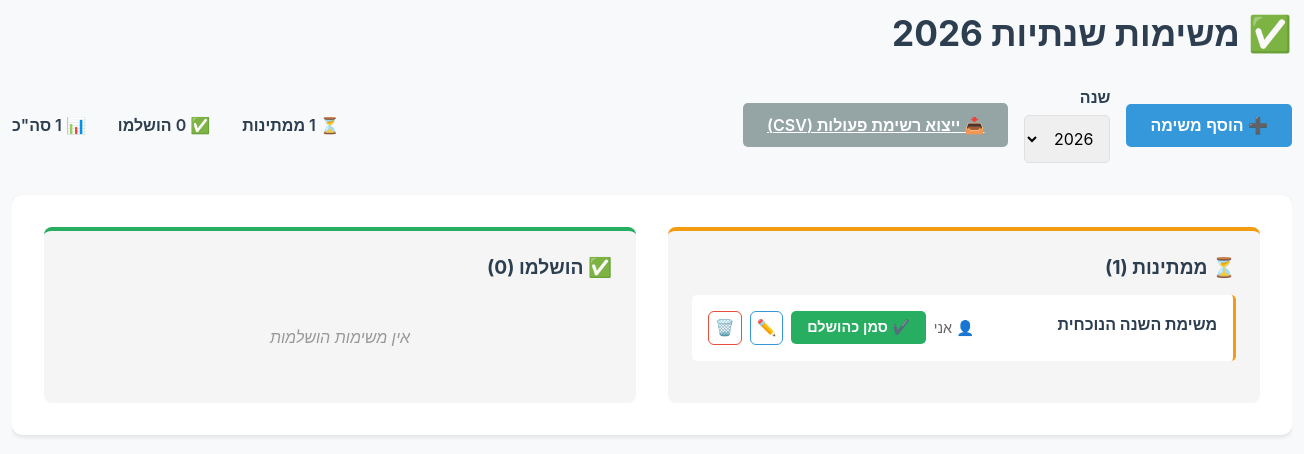
Test: ChecklistPage — בחירת שנה › בחירת שנה אחרת שולפת מ-/api/checklists/year/:year ומציגה את המשימות שלה
Select "2025" in the dropdown. click: (1067, 139)
box: [1024,115,1110,163]
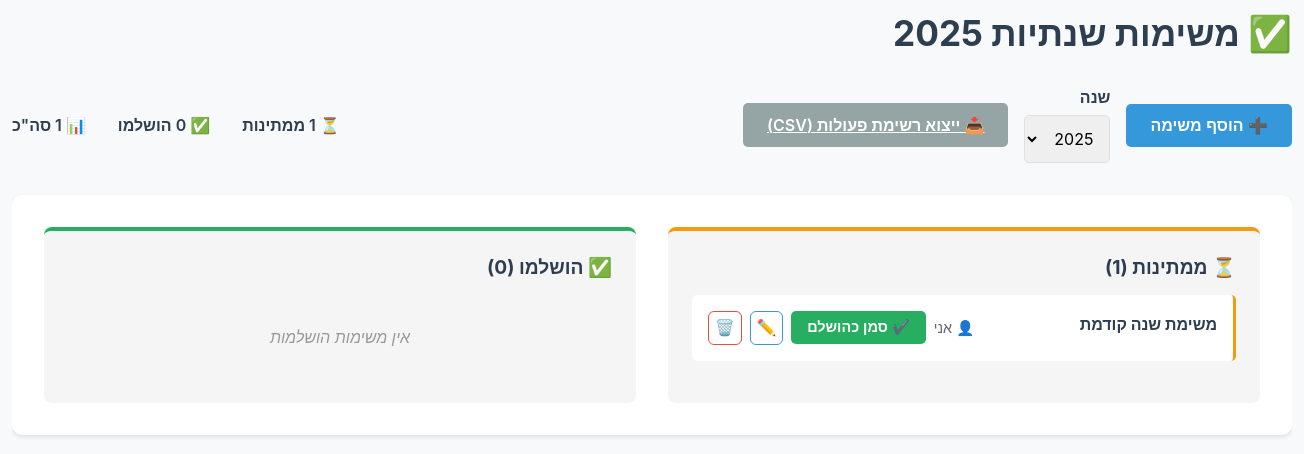
Check: the heading "משימת שנה קודמת" is shown, box [1080,314,1217,334]
Check: the heading "משימת השנה הנוכחית" is gone
